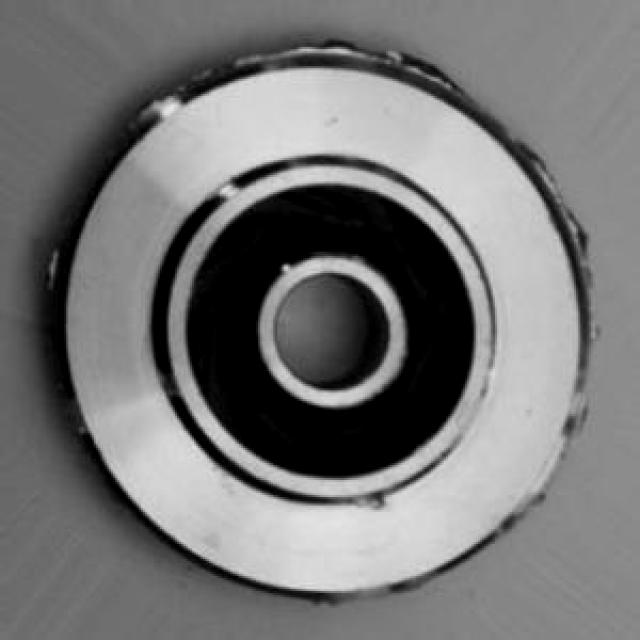Defect: (279, 34, 420, 64)
